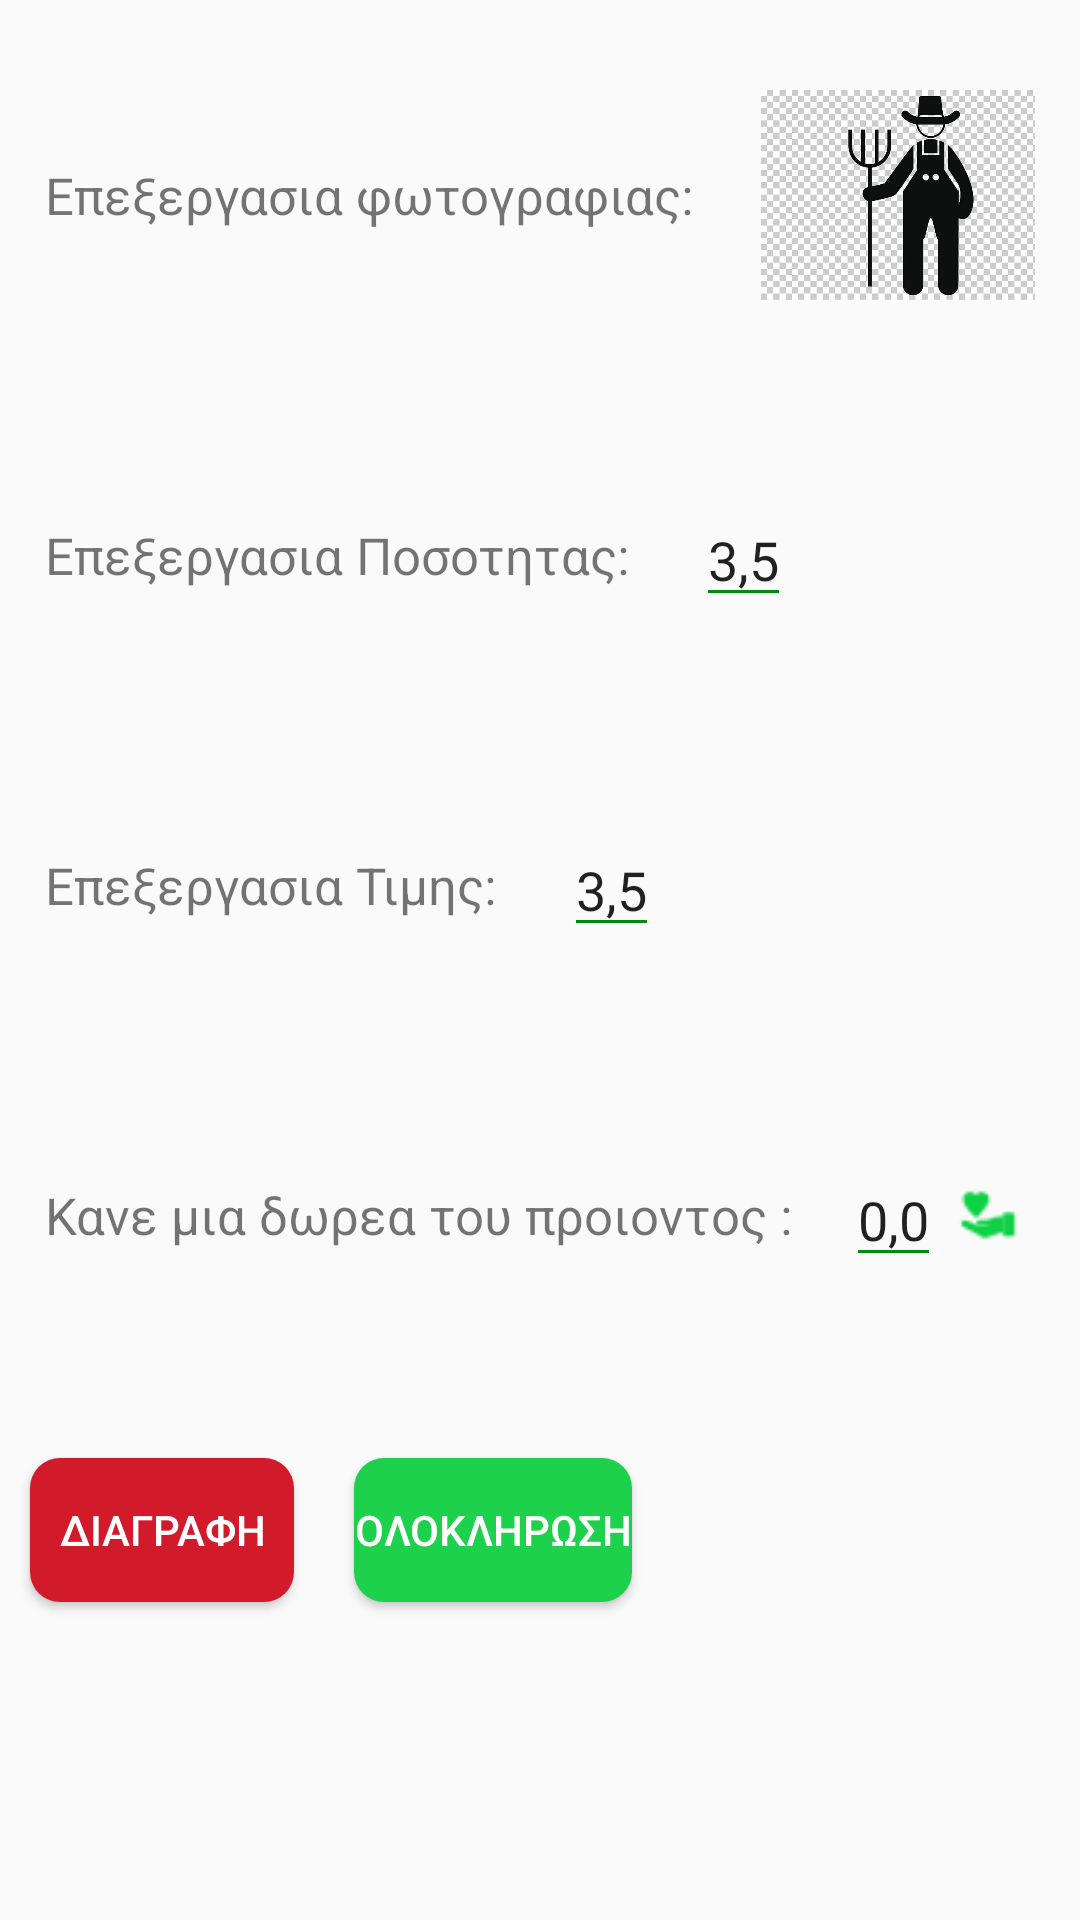

Icons on this 1080×1920 Android screen, each with its box as [x1, y1, x2, y2]:
farmer: [761, 90, 1035, 300]
philathropy: [960, 1191, 1016, 1239]
